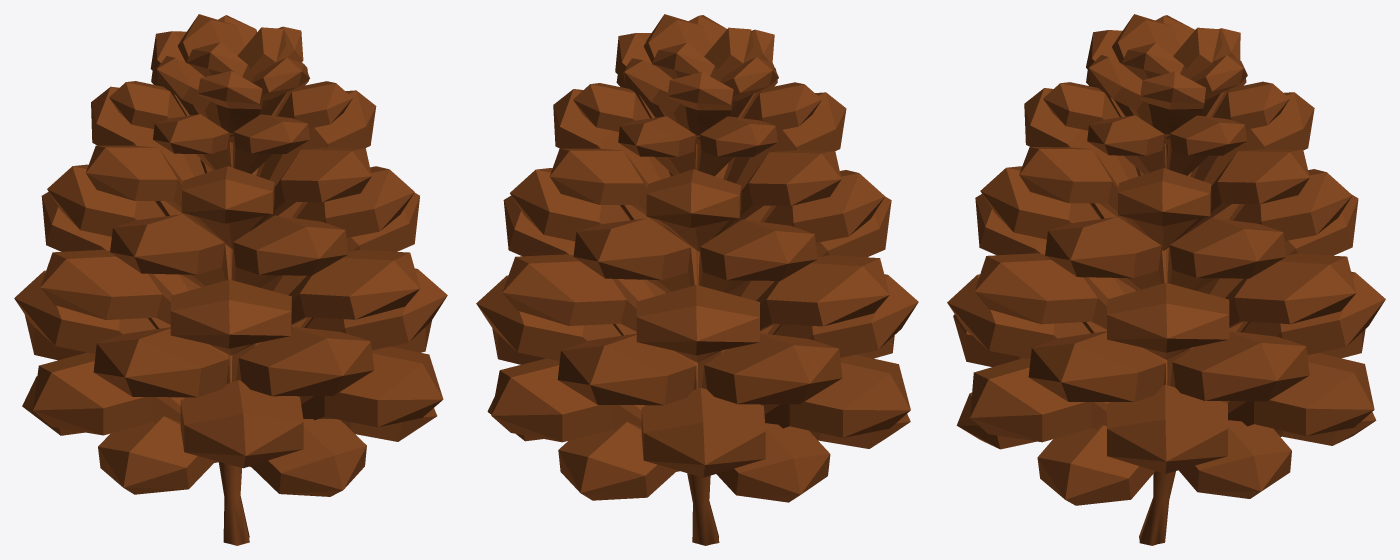
File: pinecone.glb
The picture shows the model from 3 angles, left to right: view 1: azimuth 30°, elevation 25°; view 2: azimuth 150°, elevation 25°; view 3: azimuth 270°, elevation 25°; orthographic projection. The views are drawn at different scales.
Visible parts, largest first — view 1: front2; view 2: front2; view 3: front2.
Boxes of the visible parts, x1=… form: front2: x1=14, y1=14, x2=447, y2=545; front2: x1=476, y1=14, x2=918, y2=545; front2: x1=947, y1=14, x2=1385, y2=545.
Bounding box in the file's own units: 3.93 × 4.65 × 3.62.
